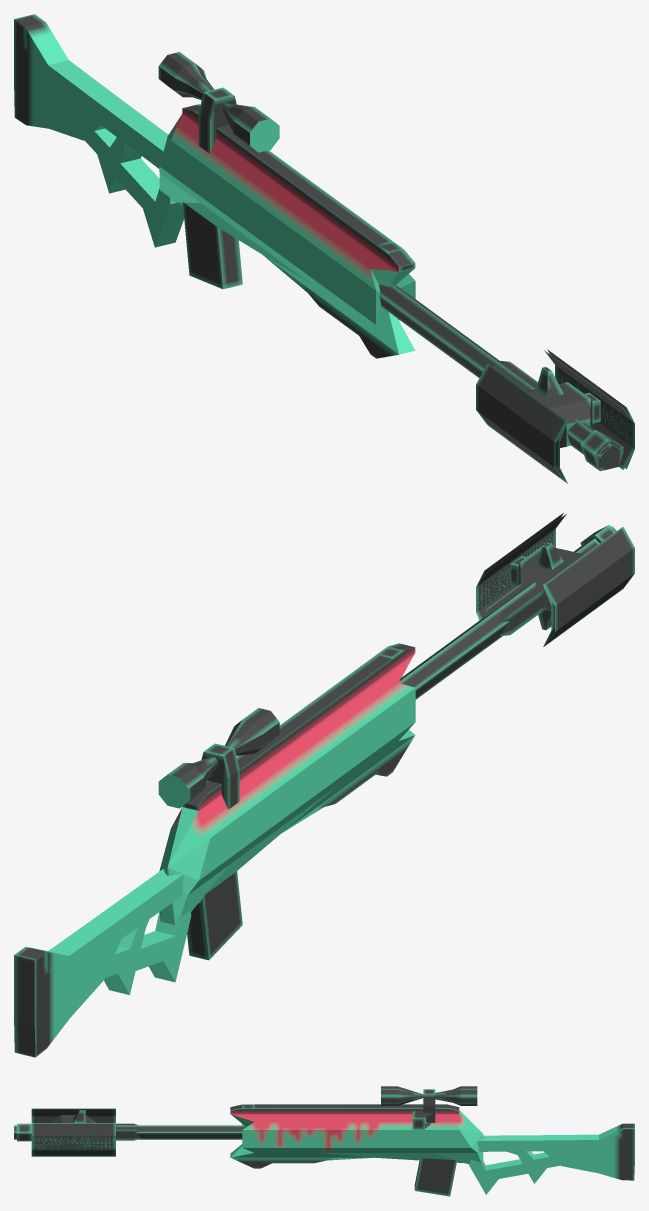
Rendered from sniper.obj.
3 views of the same model, one above another, from view 1: azimuth 30°, elevation 25°; view 2: azimuth 150°, elevation 25°; view 3: azimuth 270°, elevation 25° (orthographic). The views are drawn at different scales.
Parts seen in each view (by area): view 1: SMG_selection; view 2: SMG_selection; view 3: SMG_selection.
Boxes of the visible parts, x1,y1,x2,y2 form: SMG_selection: (14,14,634,483); SMG_selection: (14,512,634,1057); SMG_selection: (14,1086,634,1196).
Bounding box in the file's own units: 0.25 × 0.6071 × 3.22.
Materials: 1 (1 with a texture image).
